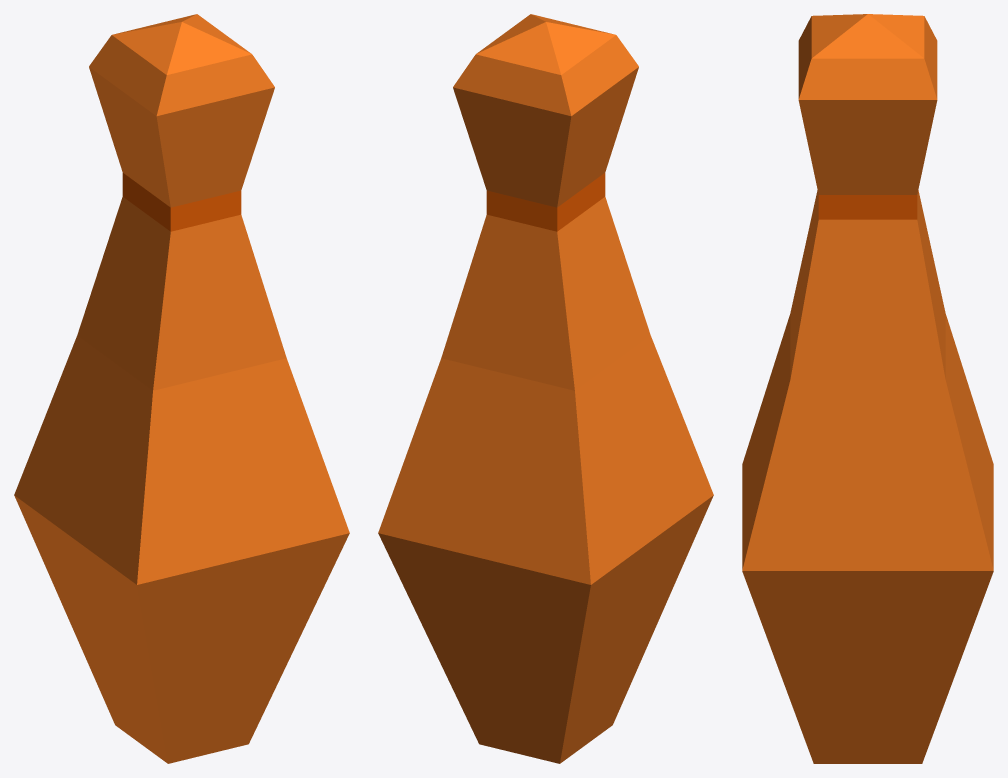
File: BowlingPin.glb
3 renders of one model, left to right at view 1: azimuth 30°, elevation 25°; view 2: azimuth 150°, elevation 25°; view 3: azimuth 270°, elevation 25°, orthographic. The views are drawn at different scales.
Visible parts, largest first — view 1: Pin; view 2: Pin; view 3: Pin.
Part boxes in pixels (<box>): Pin: <box>14,14,349,763</box>; Pin: <box>378,14,713,763</box>; Pin: <box>742,14,993,763</box>.
Bounding box in the file's own units: 1.5 × 4.8 × 1.5.
